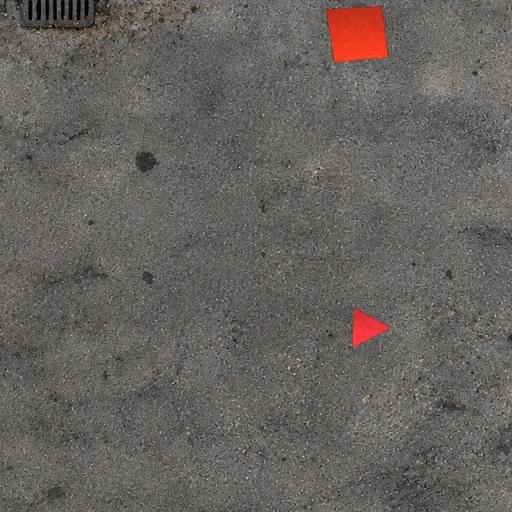RED_SQUARE: (325, 5, 389, 63)
